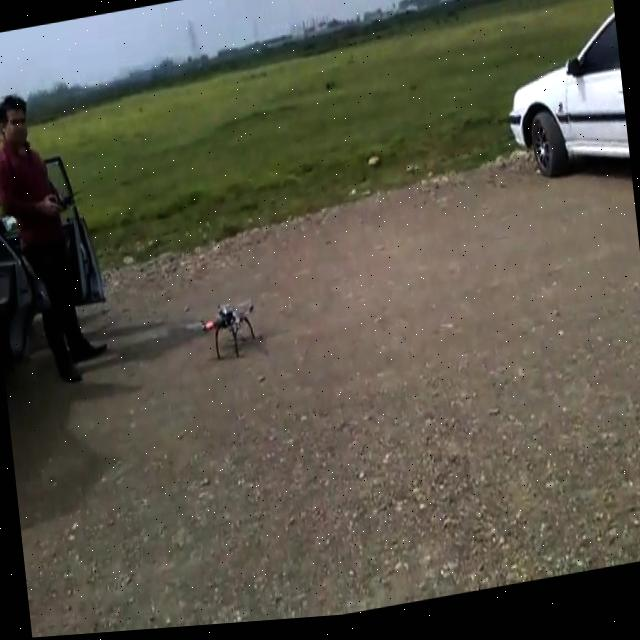drone: (194, 296, 260, 368)
